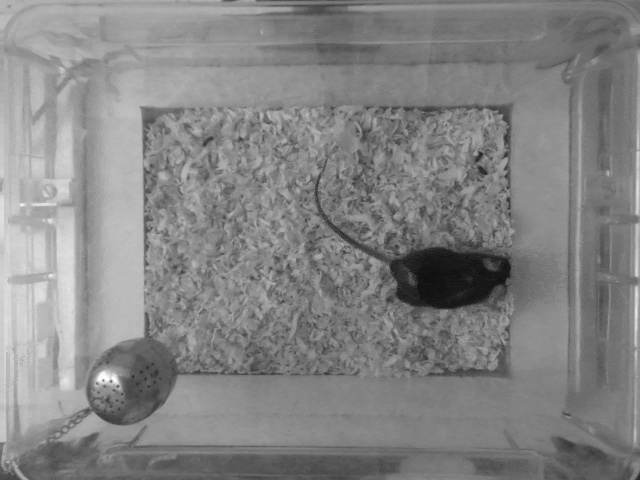mice: (314, 161, 513, 305)
